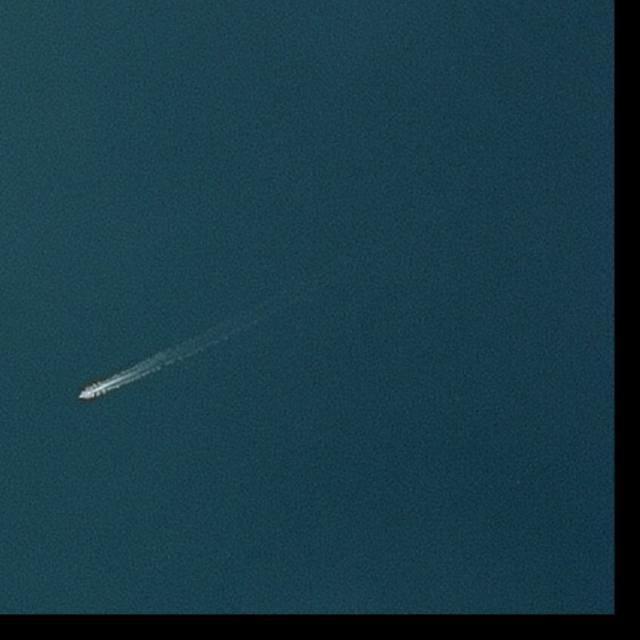ship: (79, 392, 87, 398)
